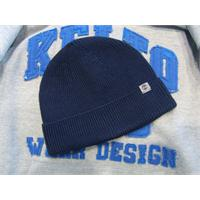hat: (38, 36, 176, 152)
